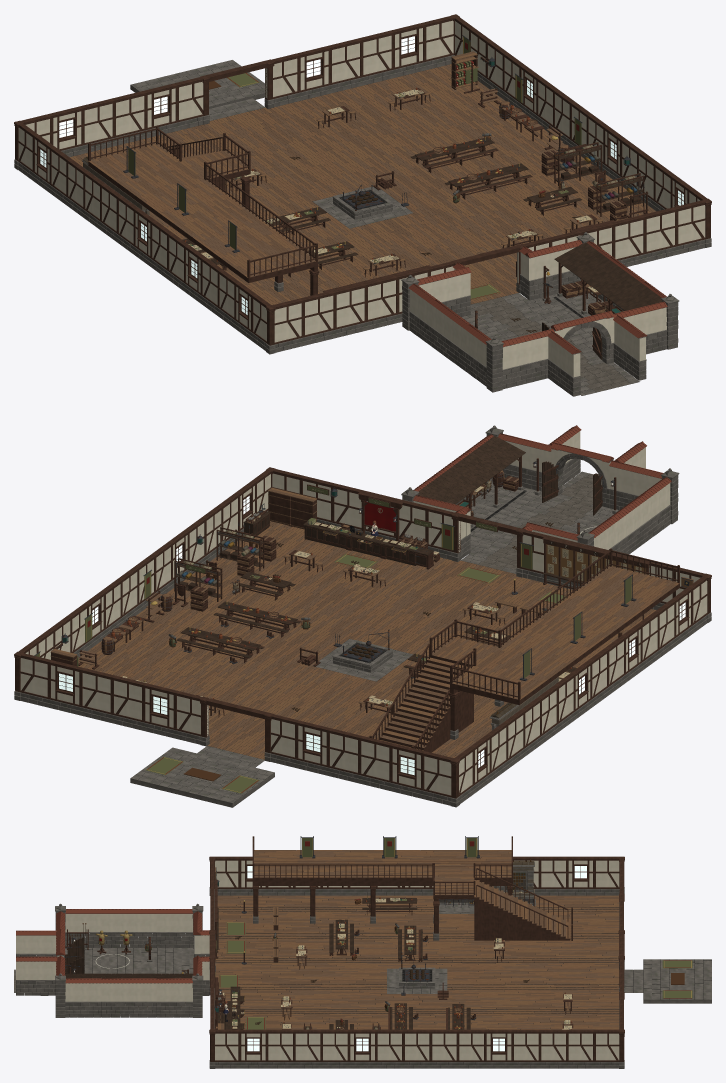
File: guild-v008.glb
The picture shows the model from 3 angles, top to bottom: view 1: azimuth 30°, elevation 25°; view 2: azimuth 150°, elevation 25°; view 3: azimuth 270°, elevation 25°; orthographic projection. The views are drawn at different scales.
Parts seen in each view (by area): view 1: Floor-Hall-v007, Gallery-Deck, Wall-South-West, YD01_Wall_4m (×5), Floor-Entry-Yard-v006, Wall-South-East, Wall-North-East, Wall-North-West, YD02_Wall_3m (×4), Wall-East-2, Wall-East-1, Wall-East-3 (+13 smaller); view 2: Floor-Hall-v007, Gallery-Deck, Floor-Entry-Yard-v006, Wall-South-East, Wall-South-West, Stairs-Dressing, YD01_Wall_4m (×4), Wall-North-West, Wall-East-2, Wall-East-3, Wall-East-1, Wall-West-2 (+18 smaller); view 3: Floor-Hall-v007, Gallery-Deck, YD02_Wall_3m (×6), Floor-Entry-Yard-v006, Wall-West-2, Wall-West-1, Wall-West-3, Stairs-Dressing, YD01_Wall_4m (×2), Wall-East-1, Wall-East-3, Gallery-Rails (+13 smaller).
Part boxes in pixels (x1,y1,x2,y2): Floor-Hall-v007: [70, 64, 655, 304]; Gallery-Deck: [88, 144, 317, 282]; Wall-South-West: [264, 14, 459, 108]; YD01_Wall_4m (×5): [417, 240, 667, 389]; Floor-Entry-Yard-v006: [130, 60, 639, 395]; Wall-South-East: [14, 75, 209, 169]; Wall-North-East: [266, 260, 461, 354]; Wall-North-West: [516, 198, 711, 293]; YD02_Wall_3m (×4): [409, 283, 646, 396]; Wall-East-2: [100, 183, 188, 290]; Wall-East-1: [17, 122, 104, 229]; Wall-East-3: [184, 245, 270, 350]; Floor-Hall-v007: [78, 521, 655, 759]; Gallery-Deck: [450, 566, 679, 705]; Floor-Entry-Yard-v006: [130, 471, 618, 807]; Wall-South-East: [264, 712, 459, 807]; Wall-South-West: [14, 651, 209, 746]; Stairs-Dressing: [369, 644, 473, 752]; YD01_Wall_4m (×4): [413, 433, 663, 555]; Wall-North-West: [266, 467, 461, 561]; Wall-East-2: [537, 636, 625, 743]; Wall-East-3: [621, 575, 707, 682]; Wall-East-1: [454, 698, 541, 803]; Wall-West-2: [101, 530, 189, 636]; Floor-Hall-v007: [215, 895, 619, 1029]; Gallery-Deck: [252, 850, 512, 885]; YD02_Wall_3m (×6): [16, 909, 192, 1017]; Floor-Entry-Yard-v006: [14, 947, 711, 1015]; Wall-West-2: [349, 1029, 485, 1068]; Wall-West-1: [485, 1029, 621, 1068]; Wall-West-3: [213, 1029, 348, 1068]; Stairs-Dressing: [474, 868, 572, 940]; YD01_Wall_4m (×2): [101, 909, 156, 1017]; Wall-East-1: [513, 856, 621, 895]; Wall-East-3: [213, 856, 348, 895]; Gallery-Rails: [252, 836, 512, 894].
Size of the model in its own units: 30.3 by 5.51 by 50.9.
62 materials, 37 textured.
